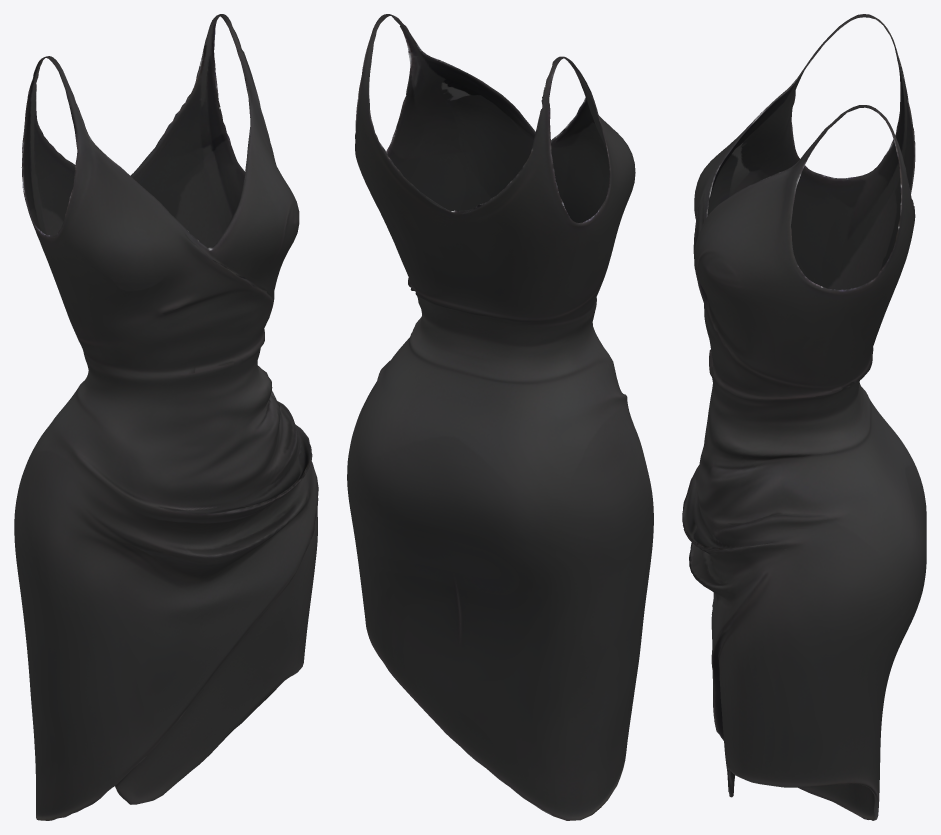
Rendered from one-piece.glb.
The picture shows the model from 3 angles, left to right: view 1: azimuth 30°, elevation 25°; view 2: azimuth 150°, elevation 25°; view 3: azimuth 270°, elevation 25°; orthographic projection. The views are drawn at different scales.
Visible parts, largest first — view 1: model; view 2: model; view 3: model.
Boxes of the visible parts, x1=… form: model: x1=14, y1=14, x2=318, y2=820; model: x1=347, y1=14, x2=653, y2=820; model: x1=682, y1=14, x2=926, y2=820.
Size of the model in its own units: 0.7212 by 1.89 by 0.5189.
Materials: 1 (1 with a texture image).
